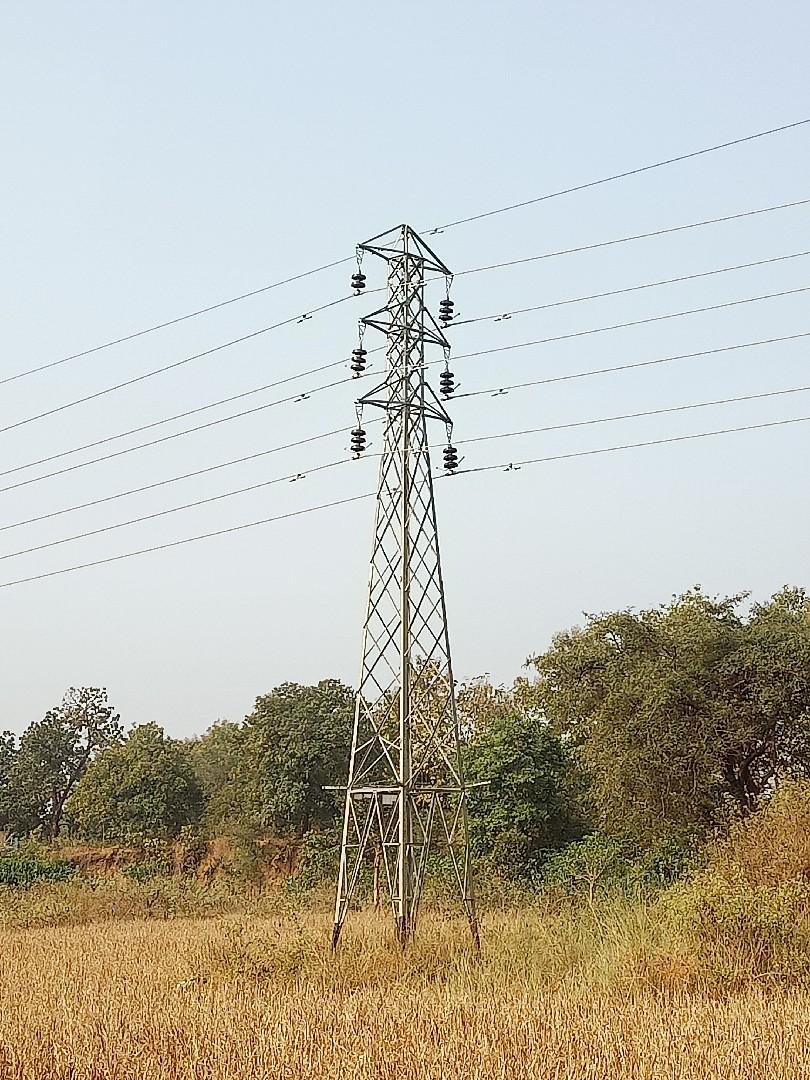GSM Antenna: (317, 217, 497, 928)
